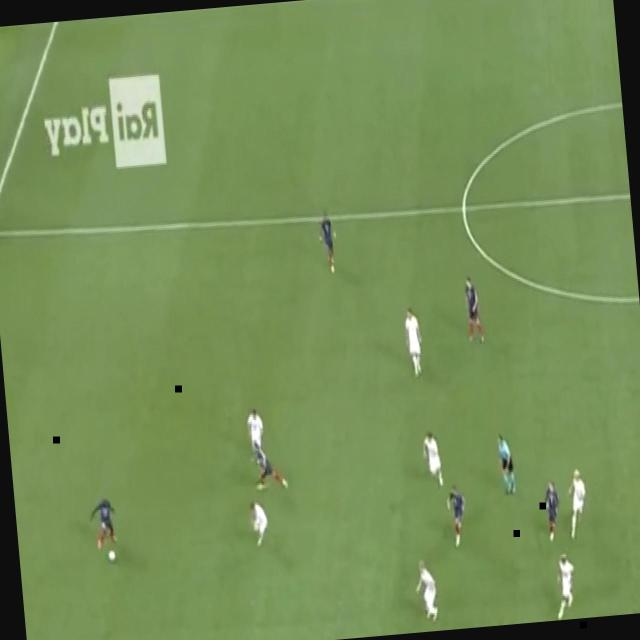ball: (107, 548, 117, 564)
player-white: (550, 550, 582, 620), (250, 438, 290, 494), (412, 556, 442, 626), (563, 466, 591, 540), (87, 495, 121, 553), (444, 482, 472, 550), (461, 274, 487, 347), (402, 305, 427, 379), (316, 208, 342, 278), (496, 430, 520, 498), (420, 429, 446, 491), (542, 478, 564, 544), (248, 498, 272, 550), (245, 406, 268, 456)
